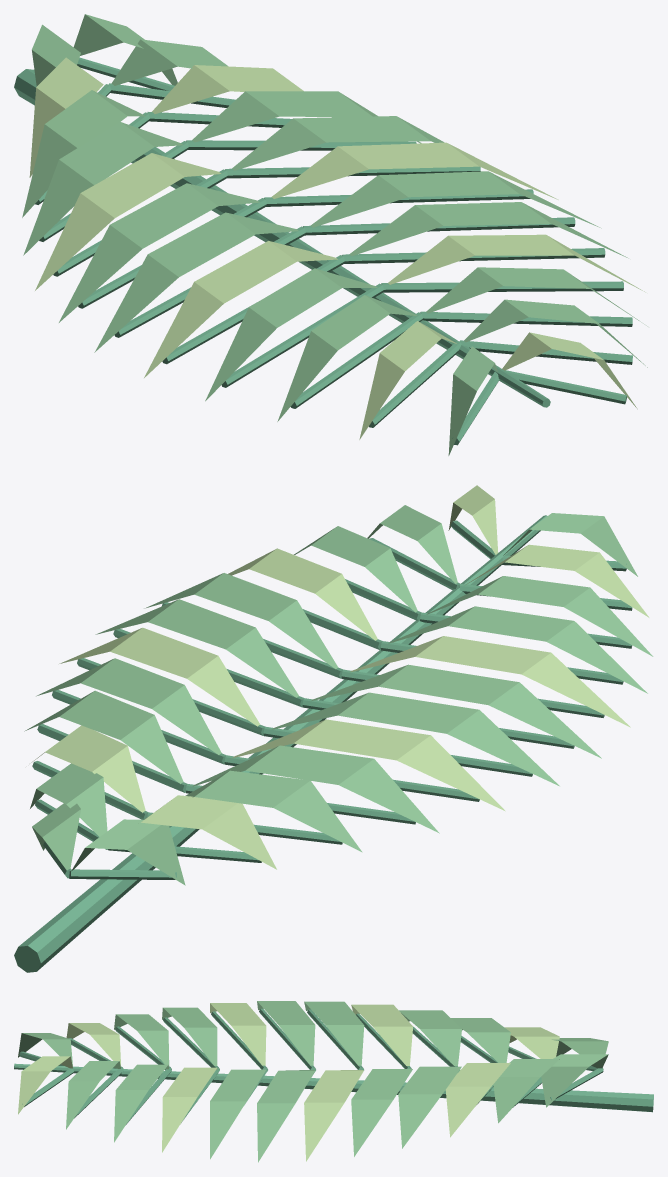
The model's file is palm_leaf.glb.
3 renders of one model, top to bottom at view 1: azimuth 30°, elevation 25°; view 2: azimuth 150°, elevation 25°; view 3: azimuth 270°, elevation 25°, orthographic. The views are drawn at different scales.
Parts seen in each view (by area): view 1: palm_leaf_leaf_main, palm_leaf_leaf_light, palm_leaf_leaf_dark; view 2: palm_leaf_leaf_main, palm_leaf_leaf_light, palm_leaf_leaf_dark; view 3: palm_leaf_leaf_main, palm_leaf_leaf_light, palm_leaf_leaf_dark.
Boxes of the visible parts, box(x1,y1,x2,y2) form: palm_leaf_leaf_main: box(22, 14, 647, 455); palm_leaf_leaf_light: box(29, 57, 645, 439); palm_leaf_leaf_dark: box(14, 57, 632, 445); palm_leaf_leaf_main: box(24, 505, 653, 885); palm_leaf_leaf_light: box(31, 485, 649, 869); palm_leaf_leaf_dark: box(14, 515, 632, 972); palm_leaf_leaf_main: box(18, 1001, 608, 1162); palm_leaf_leaf_light: box(18, 1003, 559, 1161); palm_leaf_leaf_dark: box(14, 1008, 653, 1124).
Size of the model in its own units: 0.9781 by 0.1918 by 1.73.
